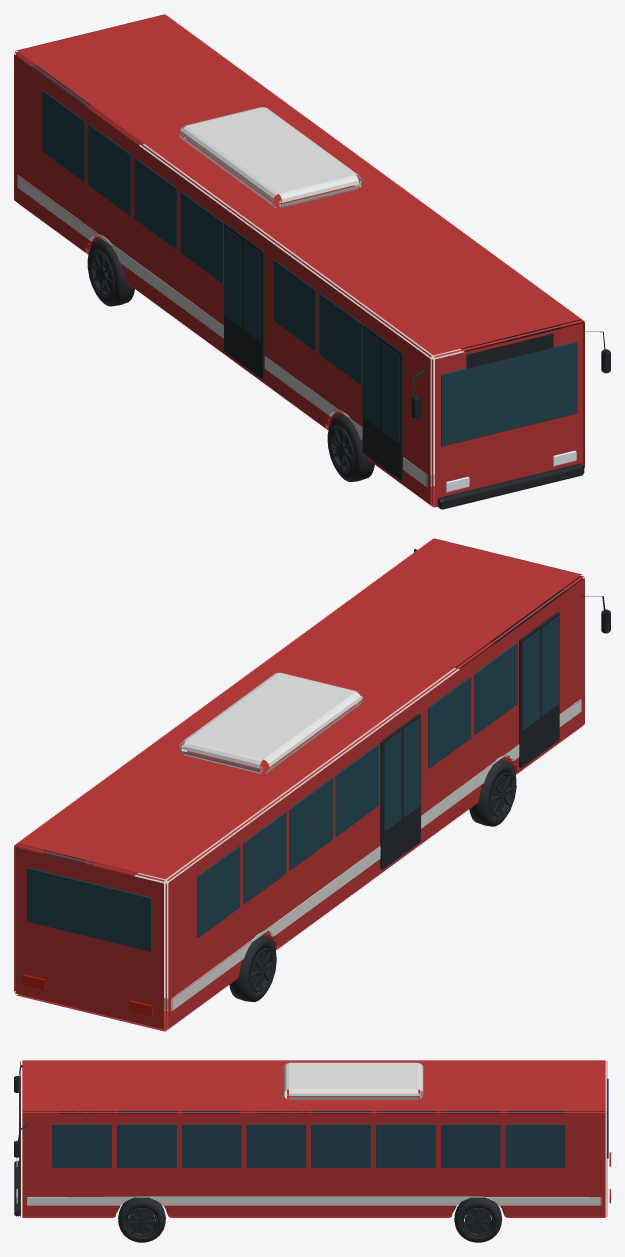
File: strahov-city-bus-low.glb
3 renders of one model, top to bottom at view 1: azimuth 30°, elevation 25°; view 2: azimuth 150°, elevation 25°; view 3: azimuth 270°, elevation 25°, orthographic. The views are drawn at different scales.
Visible parts, largest first — view 1: Body_Demo Prague red, Body_glass, Body_white, Body_Demo cream, Body_black, DoorMiddle_glass, DoorFront_glass, DoorFront_black, DoorMiddle_black, WheelRearRight_LOD, WheelFrontRight_LOD; view 2: Body_Demo Prague red, Body_glass, Body_white, Body_Demo cream, DoorMiddle_glass, DoorFront_glass, DoorMiddle_black, DoorFront_black, WheelFrontRight_LOD, WheelRearRight_LOD; view 3: Body_Demo Prague red, Body_glass, Body_white, Body_Demo cream, WheelFrontLeft_LOD, WheelRearLeft_LOD, Body_black.
Boxes of the visible parts, box(x1,y1,x2,y2) form: Body_Demo Prague red: box(14, 14, 584, 507); Body_glass: box(31, 64, 577, 446); Body_white: box(179, 107, 362, 208); Body_Demo cream: box(17, 144, 464, 486); Body_black: box(411, 331, 610, 509); DoorMiddle_glass: box(224, 227, 260, 341); DoorFront_glass: box(363, 329, 399, 442); DoorFront_black: box(362, 324, 403, 480); DoorMiddle_black: box(224, 223, 264, 379); WheelRearRight_LOD: box(87, 239, 134, 306); WheelFrontRight_LOD: box(327, 415, 374, 481); Body_Demo Prague red: box(14, 538, 584, 1031); Body_glass: box(27, 588, 568, 951); Body_white: box(179, 672, 362, 773); Body_Demo cream: box(134, 668, 581, 1011); DoorMiddle_glass: box(384, 718, 420, 831); DoorFront_glass: box(523, 616, 558, 730); DoorMiddle_black: box(380, 713, 420, 869); DoorFront_black: box(519, 612, 559, 768); WheelFrontRight_LOD: box(469, 759, 516, 826); WheelRearRight_LOD: box(229, 935, 276, 1002); Body_Demo Prague red: box(20, 1060, 607, 1217); Body_glass: box(19, 1076, 608, 1172); Body_white: box(284, 1062, 423, 1099); Body_Demo cream: box(27, 1195, 601, 1205); WheelFrontLeft_LOD: box(118, 1197, 165, 1242); WheelRearLeft_LOD: box(454, 1197, 502, 1242); Body_black: box(14, 1065, 28, 1216).
Size of the model in its own units: 3.2 by 3.11 by 11.98.
